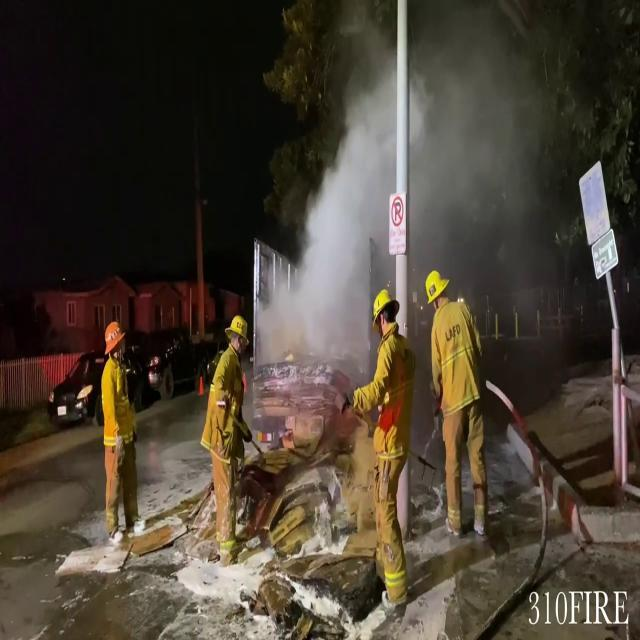Smoke: (269, 2, 566, 338)
